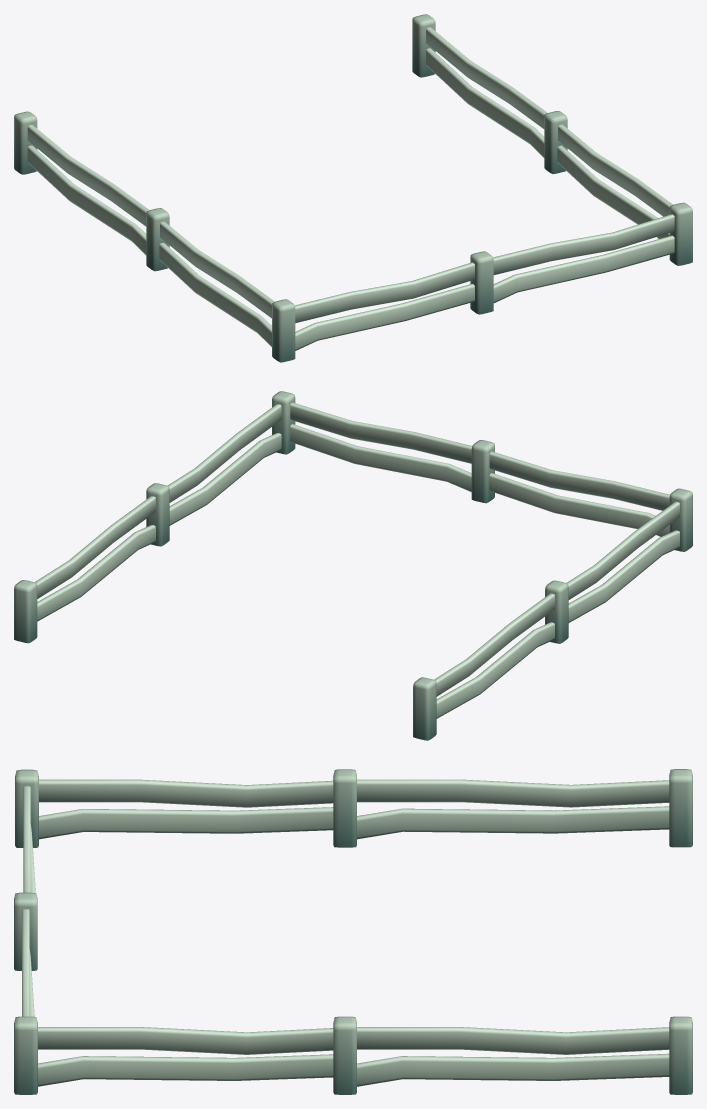
The model's file is Cerca.fbx.
The picture shows the model from 3 angles, top to bottom: view 1: azimuth 30°, elevation 25°; view 2: azimuth 150°, elevation 25°; view 3: azimuth 270°, elevation 25°; orthographic projection. The views are drawn at different scales.
Parts seen in each view (by area): view 1: Cube.069; view 2: Cube.069; view 3: Cube.069.
Boxes of the visible parts, x1,y1,x2,y2 form: Cube.069: [14, 14, 692, 362]; Cube.069: [14, 391, 692, 740]; Cube.069: [14, 769, 692, 1094].
Size of the model in its own units: 885 by 112 by 986.
